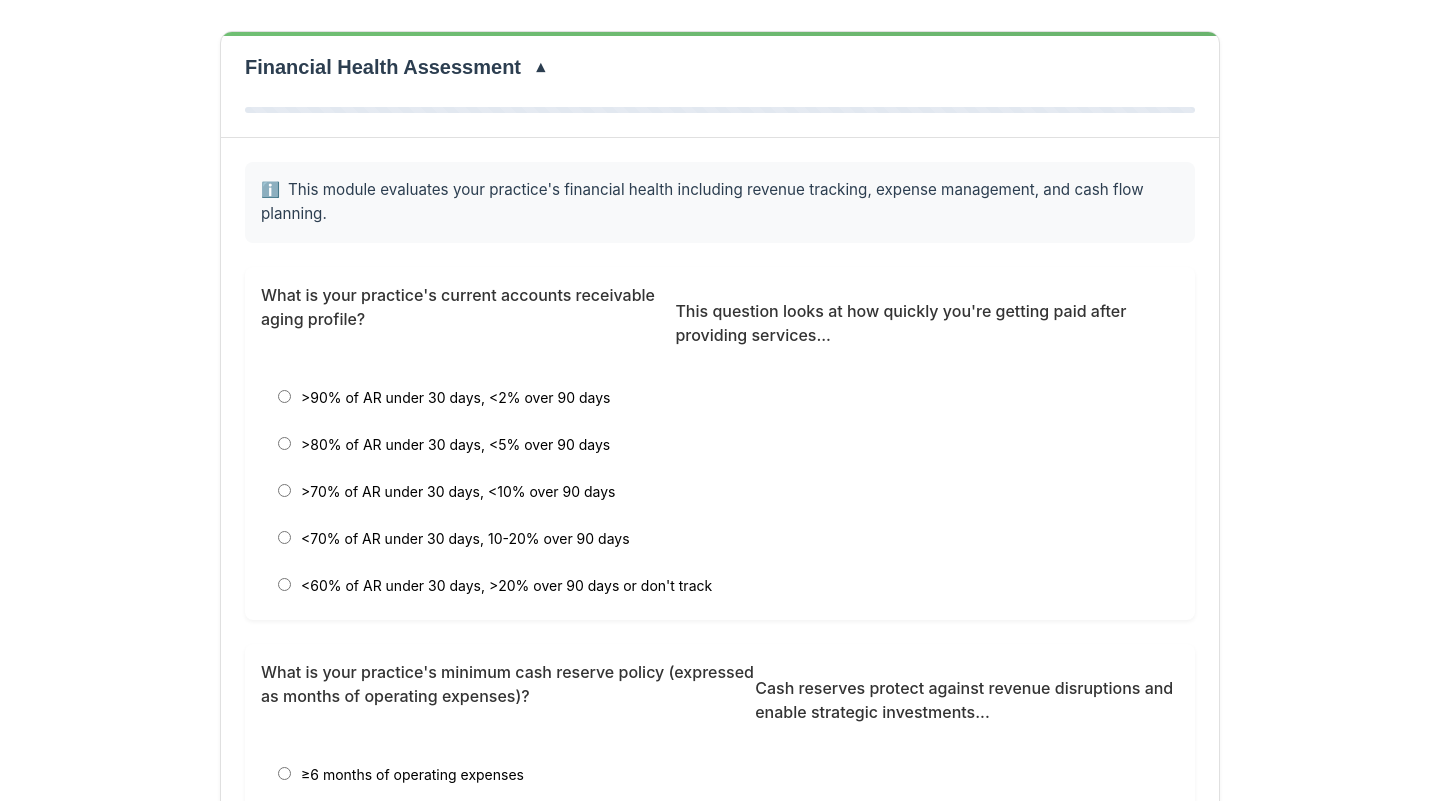
Scenario: AssessmentPage › Error Handling › shows error message when saving fails
(page scrolled)
Note: Try to save answer
Step 1. Click the radio button labelled ">90% of AR under 30 days, <2% over 90 days" → (284, 396), box [278, 390, 291, 403]
(page scrolled)
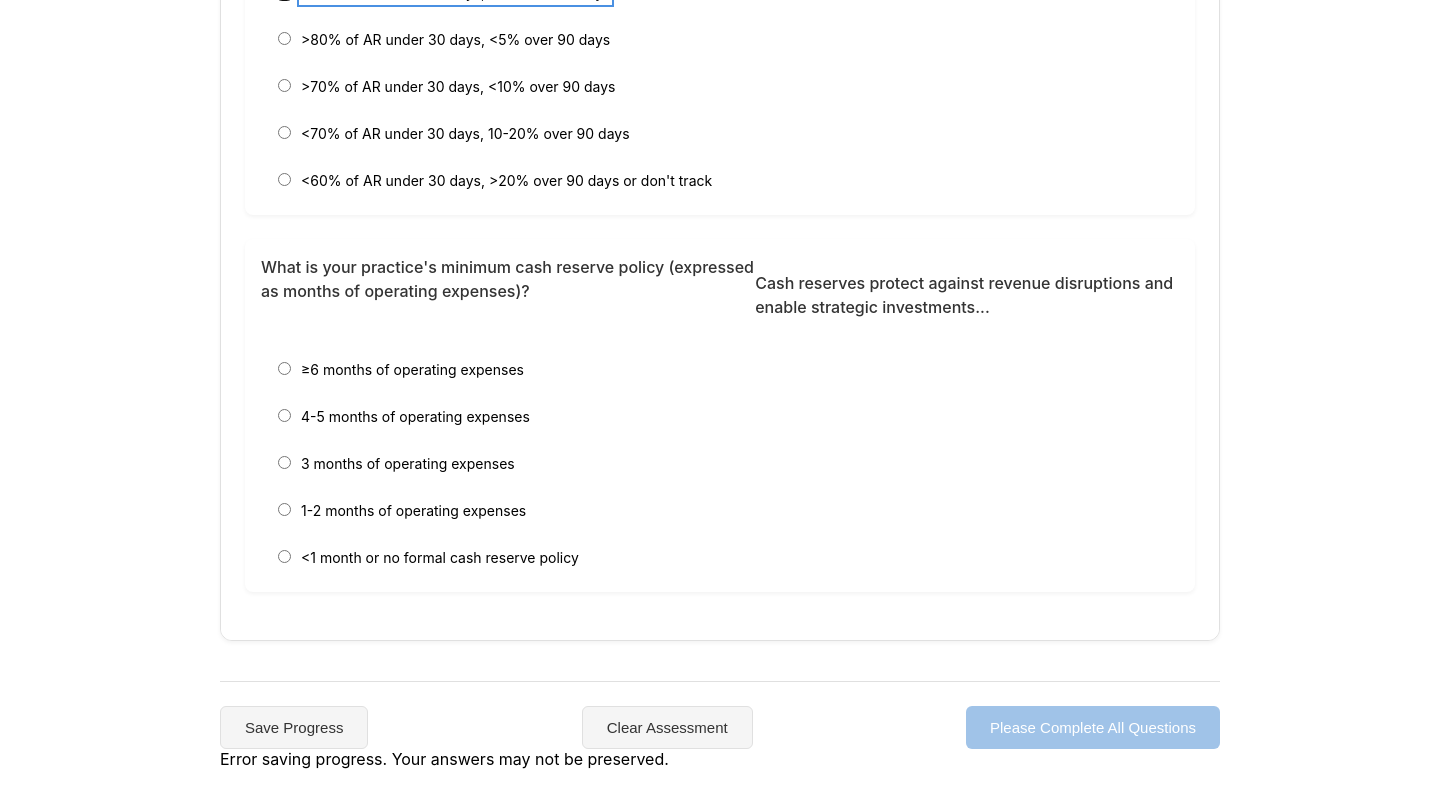
Expected: the message shows "Error saving progress", [220, 749, 669, 769]
